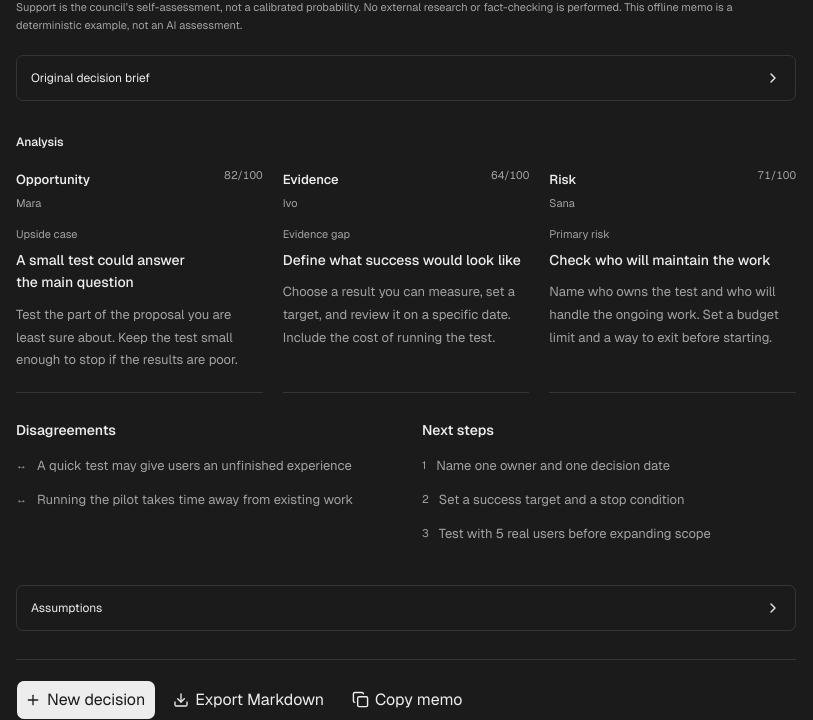
Test: confirms copying the memo and recovers from a failed copy
(page scrolled)
Click the button "Copy memo" at (408, 700), box left=343, top=680, right=474, bottom=719
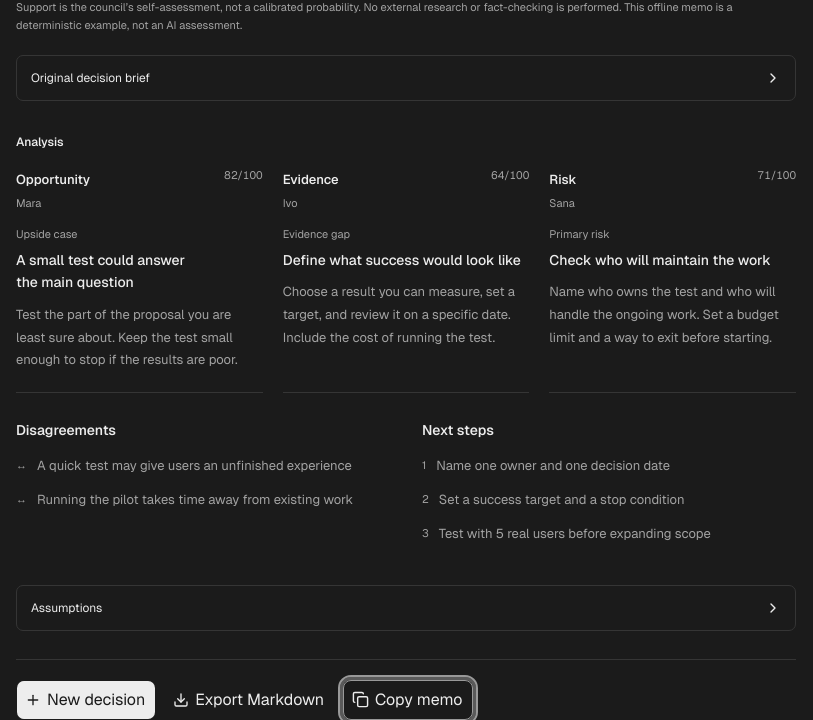
Click the button "Copy memo" at (408, 700), box left=343, top=680, right=474, bottom=719
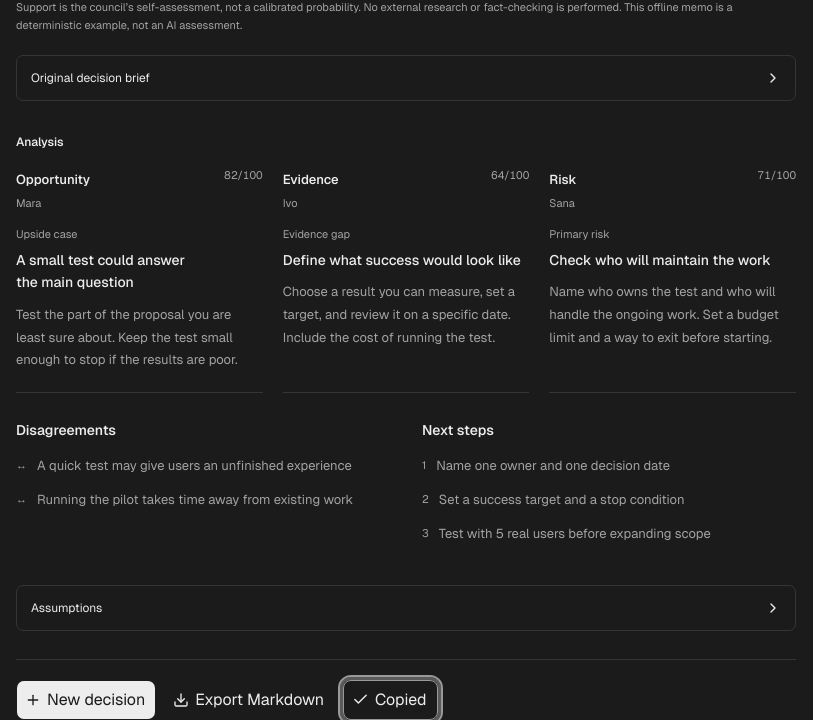
expect the button "Copied" is shown: met, box left=343, top=680, right=438, bottom=719
